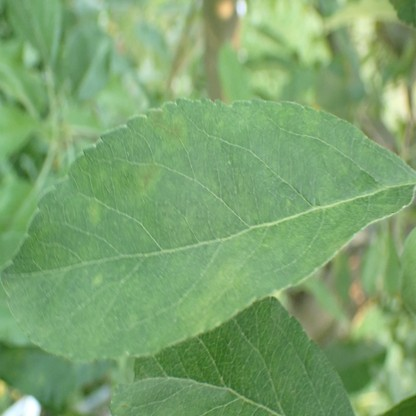scab: (179, 258, 246, 316), (152, 111, 186, 147), (136, 160, 158, 189), (87, 204, 102, 226), (92, 272, 102, 287)
